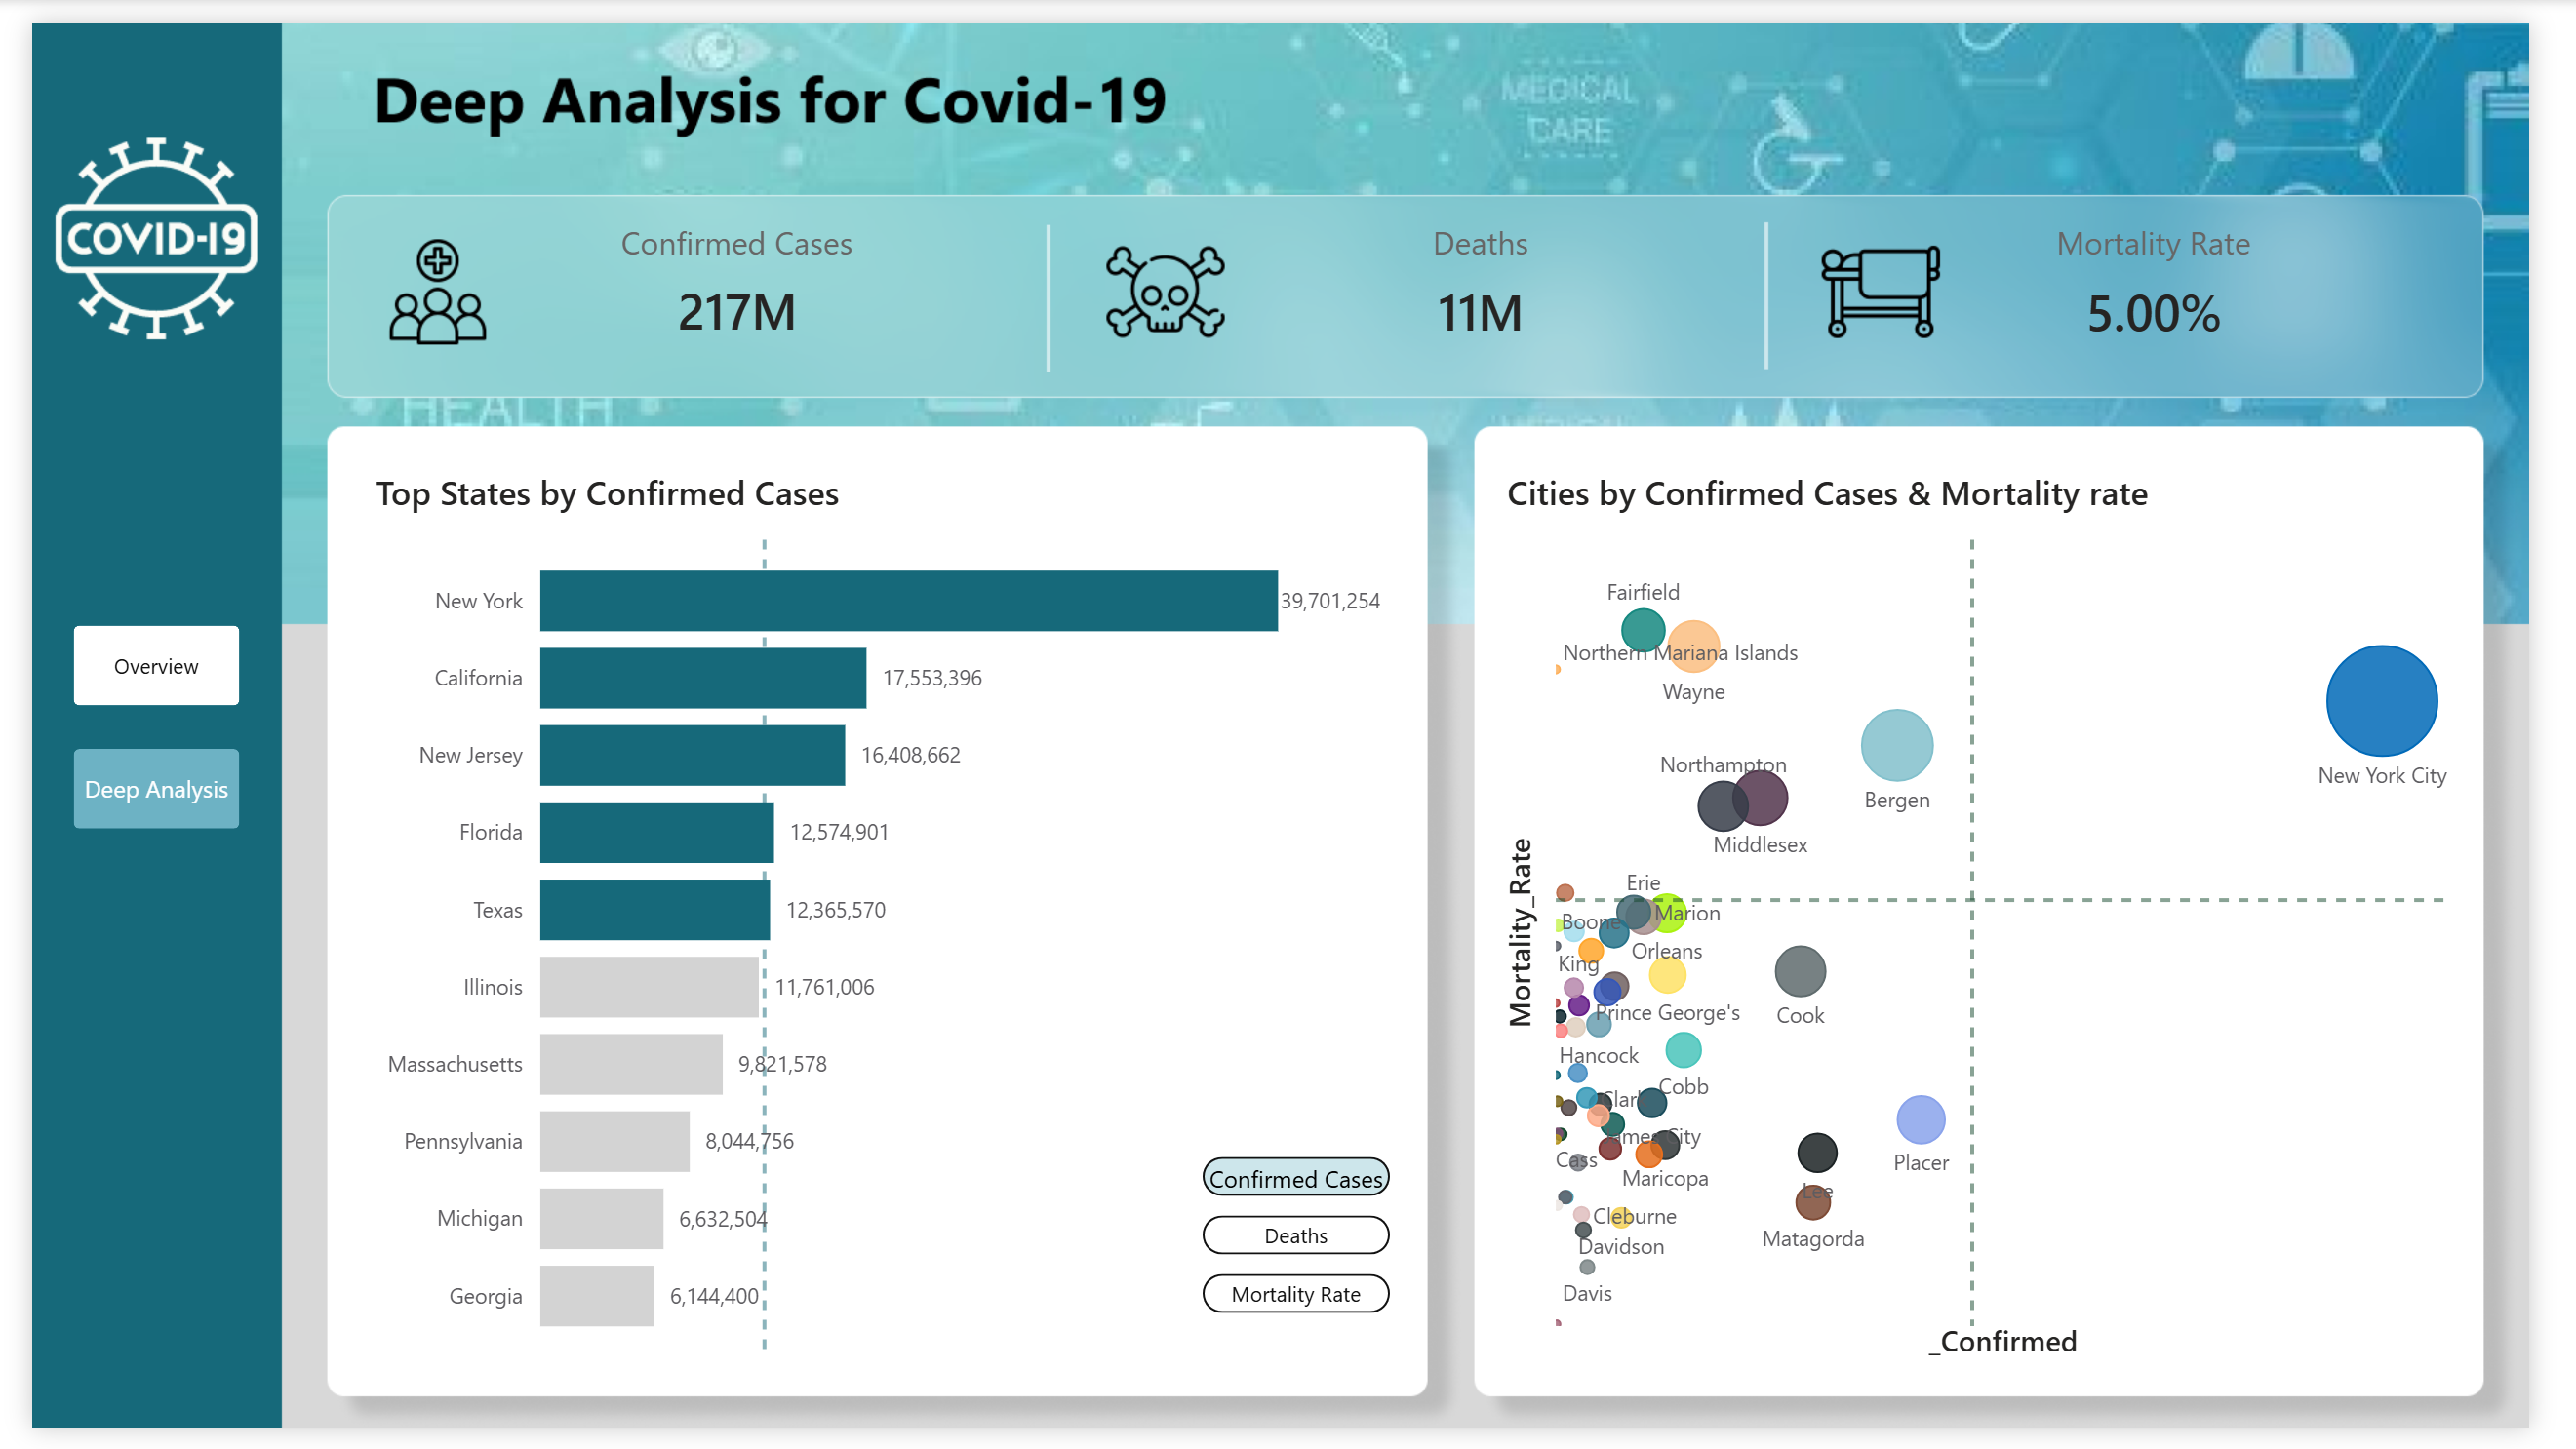

The dashboard page shown, as its layout file describes it:
{"tool":"powerbi","page":{"name":"Deep Analysis","canvas":[1280,720],"ordinal":5},"visuals":[{"type":"card","title":"Mortality Rate","fields":{"Values":["USA_Covid19.Case Fatality Rate (CFR)"]},"box":[985,101.7,205,73.3],"z":0},{"type":"card","title":"Deaths","fields":{"Values":["USA_Covid19.Total_Deaths"]},"box":[640,101.7,205,73.3],"z":1000},{"type":"card","title":"Confirmed Cases","fields":{"Values":["USA_Covid19.Total_Confirmed"]},"box":[258.3,101.7,205,73],"z":2000},{"type":"pageNavigator","box":[21.7,308.3,85,105],"z":3000},{"type":"clusteredBarChart","title":"Top States by Confirmed Cases","fields":{"Category":["Dim_State.State","Dim_City.City"],"Y":["USA_Covid19._Confirmed"]},"box":[171.4,228.6,524.7,460.6],"z":6000},{"type":"scatterChart","title":"Cities by Confirmed Cases & Mortality rate","fields":{"X":["USA_Covid19.Total_Confirmed"],"Y":["USA_Covid19.Mortality_Rate"],"Category":["Dim_City.City"],"Size":["USA_Covid19.Total_Deaths"],"Series":["Dim_City.City"]},"box":[751.5,228.6,493.5,460.6],"z":7000},{"type":"bookmarkNavigator","box":[600,581.7,96.7,81.7],"z":8000}]}

Visuals, with their boxes on the page's 1280x720 design canvas (x1, y1, x2, y2). These are canvas units, not pixel positions in the 2576x1449 screenshot, which may show the page scaled, cropped or inside an application window:
"Mortality Rate" card: (left=985, top=102, right=1190, bottom=175)
"Deaths" card: (left=640, top=102, right=845, bottom=175)
"Confirmed Cases" card: (left=258, top=102, right=463, bottom=175)
pageNavigator: (left=22, top=308, right=107, bottom=413)
"Top States by Confirmed Cases" clusteredBarChart: (left=171, top=229, right=696, bottom=689)
"Cities by Confirmed Cases & Mortality rate" scatterChart: (left=752, top=229, right=1245, bottom=689)
bookmarkNavigator: (left=600, top=582, right=697, bottom=663)
